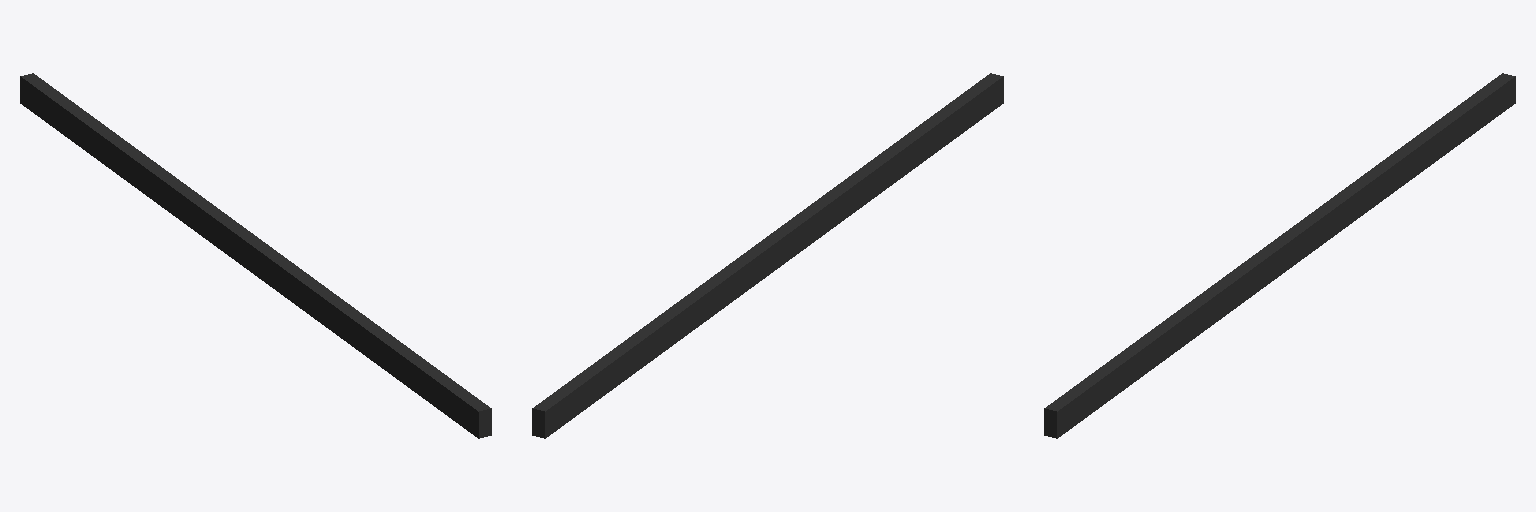
URDF robot description (wall):
<robot name="wall">
  <link name="baseLink">
   
    <inertial>
      <origin rpy="0 0 0" xyz="0 0 0" />
       <mass value="10" />
       <inertia ixx="0" ixy="0" ixz="0" iyy="0" iyz="0" izz="0" />
    </inertial>
    <visual>
      <origin rpy="0 0 0" xyz="0 0 0" />
      <geometry>
			  <box size="0.1 6.1 0.2" />
      </geometry>
       <material name="grey">
        <color rgba="0.24 0.24 0.24 1" />
      </material>
    </visual>
    <collision>
      <origin rpy="0 0 0" xyz="0 0 0" />
      <geometry>
	 	      <box size="0.1 6.1 0.2" />
      </geometry>
    </collision>
  </link>
</robot>

--- What the picture shows (computed from the rendered views, not written in the file) ---
The picture shows the robot from 3 angles, left to right: view 1: azimuth 30°, elevation 25°; view 2: azimuth 150°, elevation 25°; view 3: azimuth 330°, elevation 25°; orthographic projection.
Robot: wall — 1 links, 0 joints (none); root link baseLink; default pose: all joints at 0.
Links seen in each view (by area): view 1: baseLink; view 2: baseLink; view 3: baseLink.
Boxes of the visible links, x1,y1,x2,y2 form: baseLink: [20, 73, 491, 438]; baseLink: [532, 73, 1003, 438]; baseLink: [1044, 73, 1515, 438].
Size in the robot's own frame: 0.1 by 6.1 by 0.2 metres.
Geometry: primitives only (box / cylinder / sphere), no mesh files.
